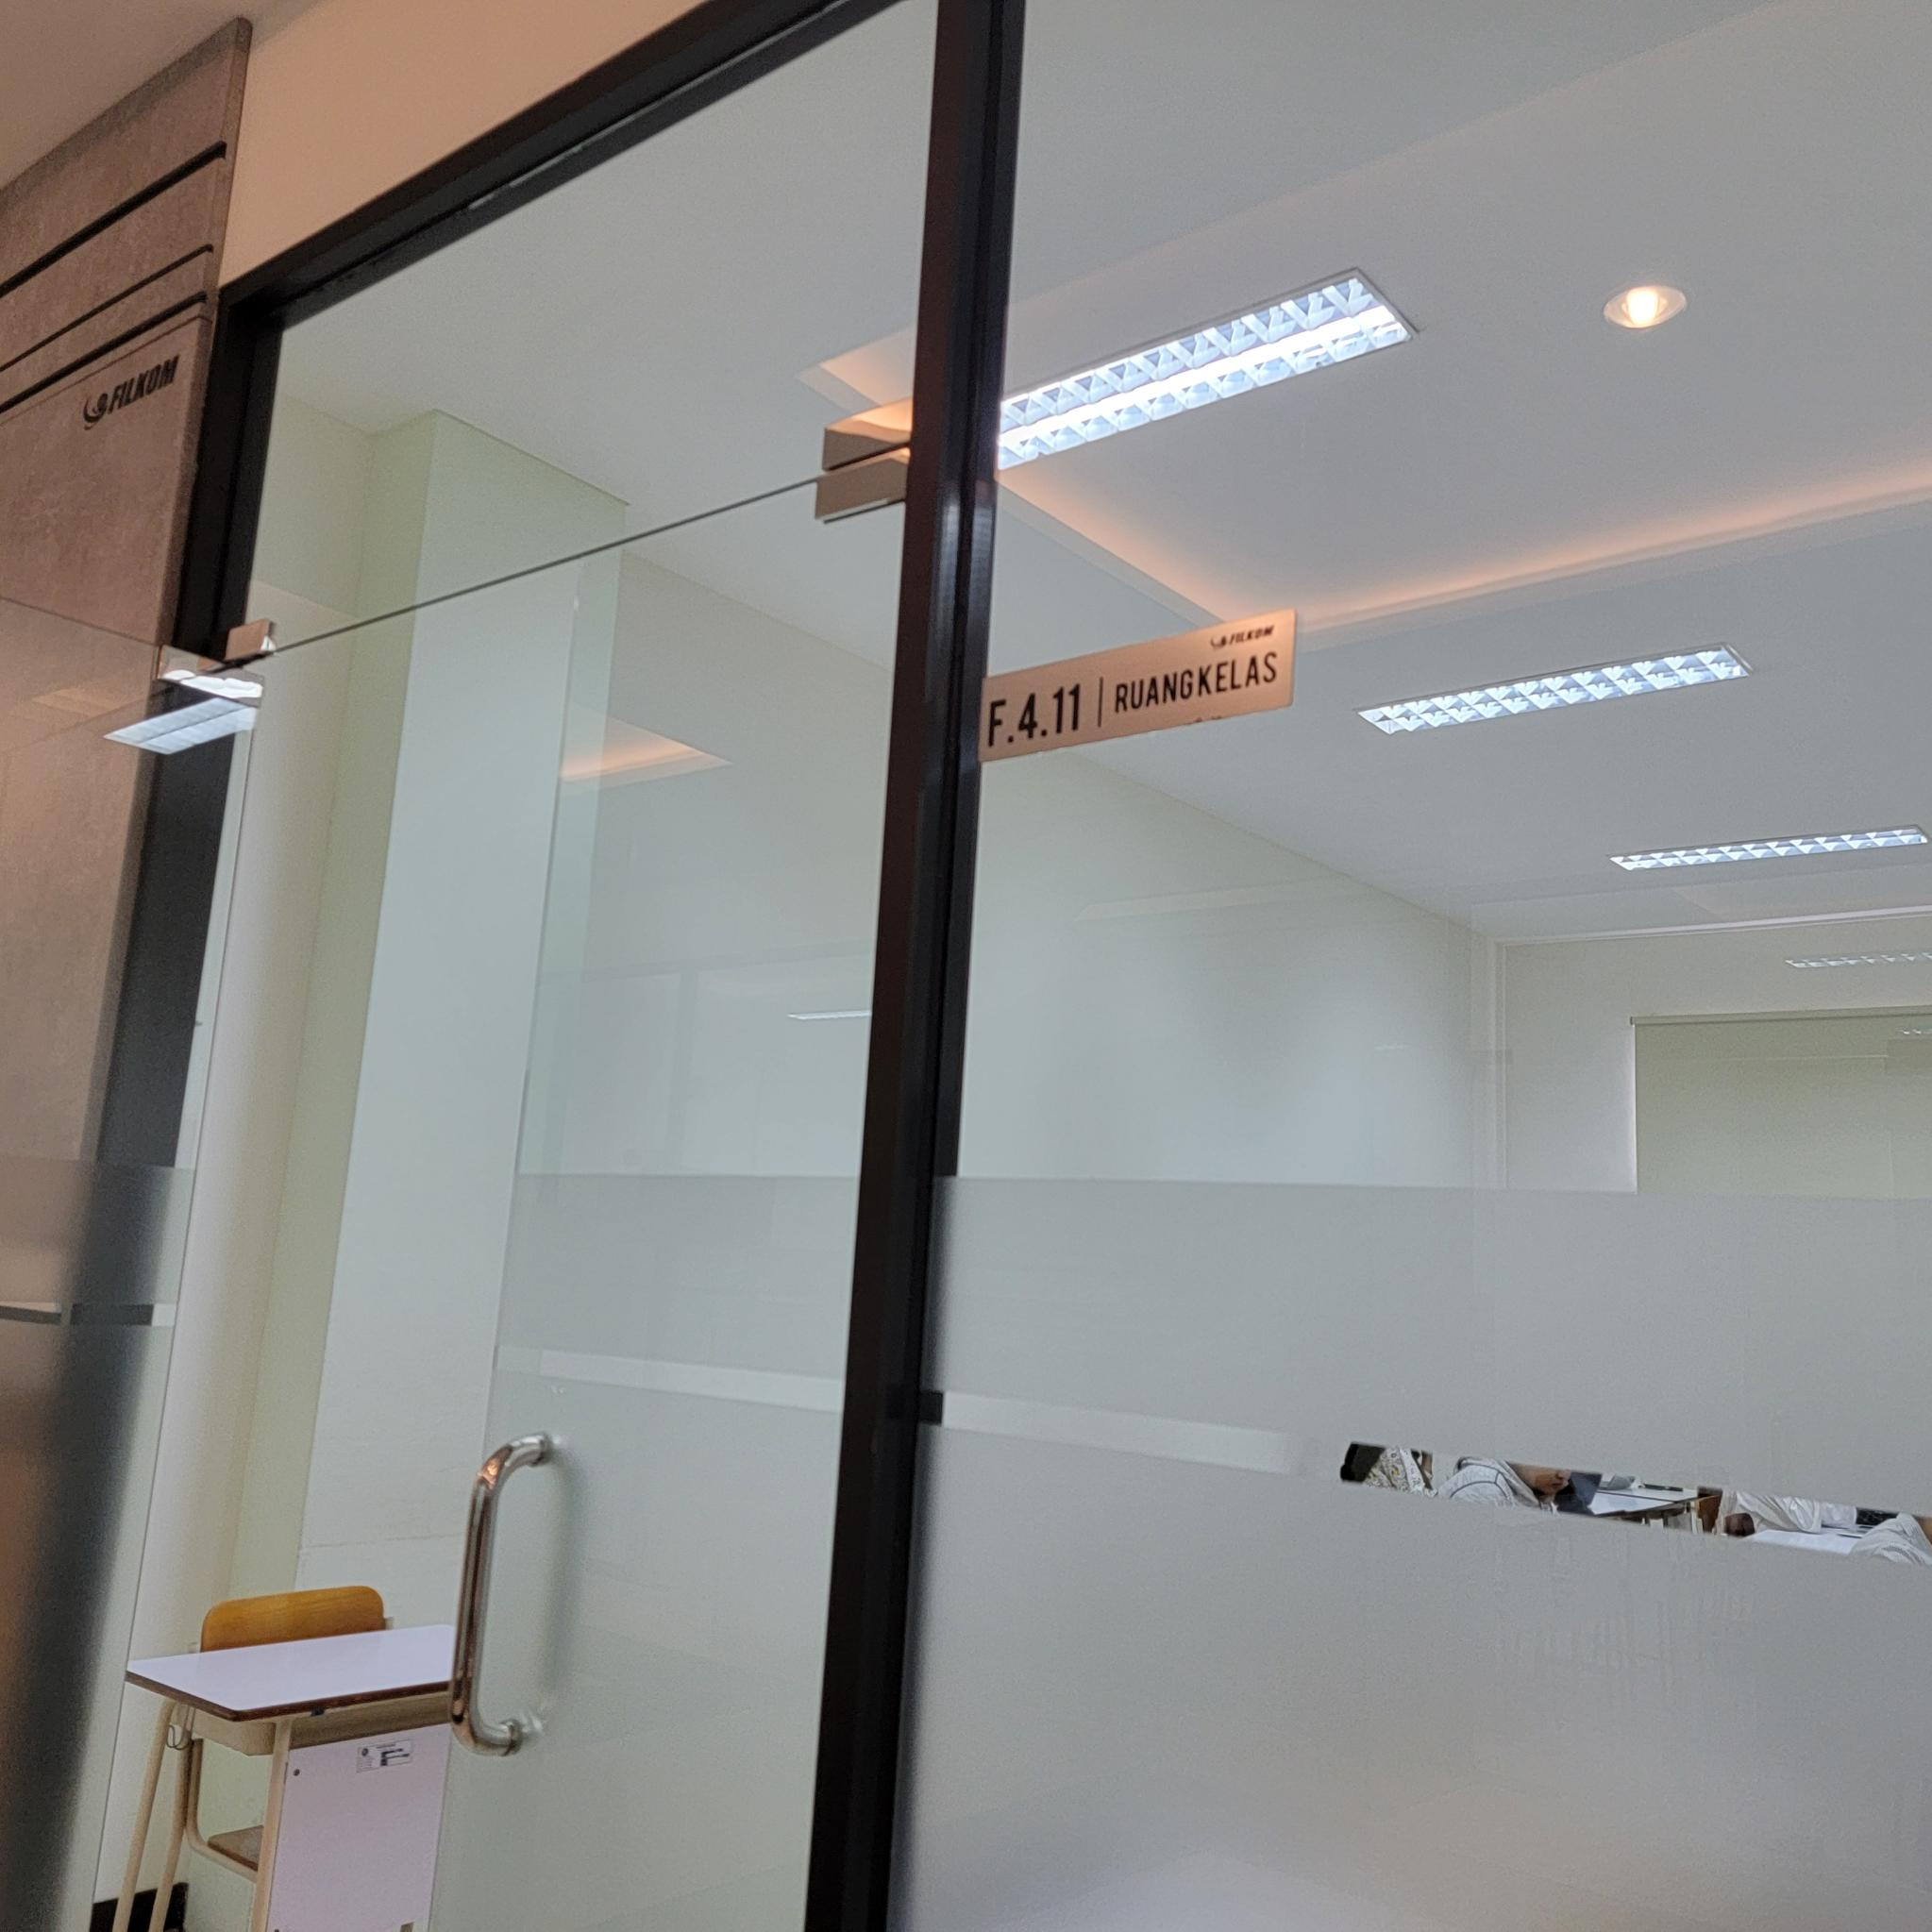plate: (975, 607, 1295, 768)
